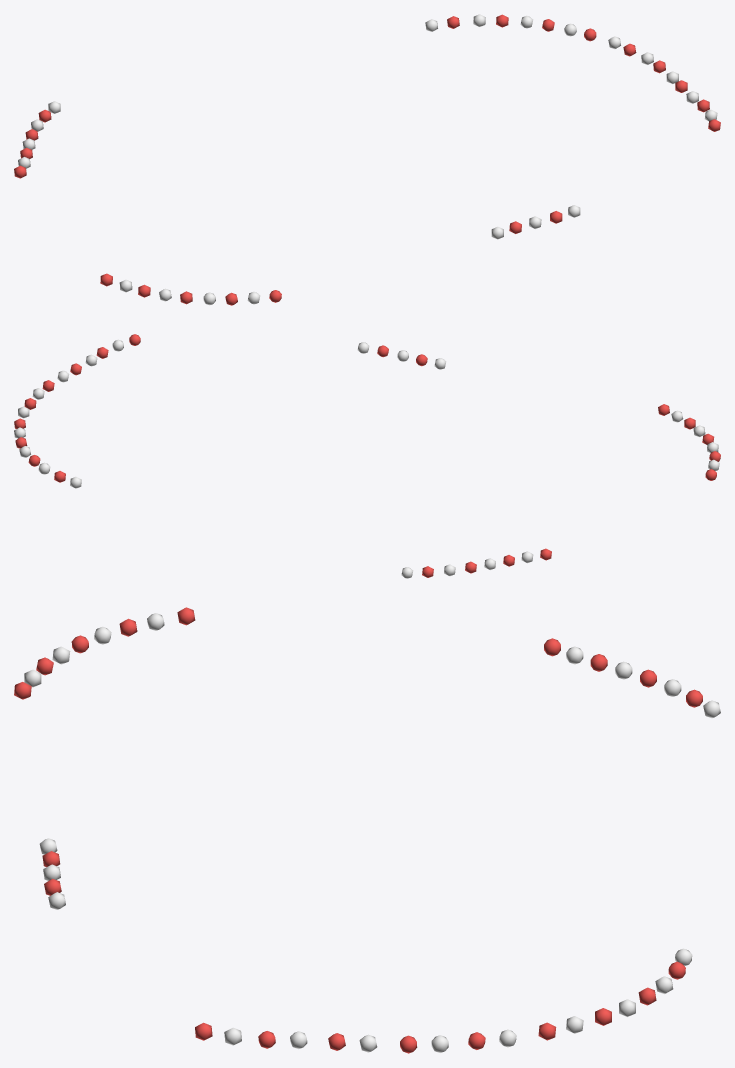
Rendered from buoys.fbx.
3 views of the same model, one above another, from view 1: azimuth 30°, elevation 25°; view 2: azimuth 150°, elevation 25°; view 3: azimuth 270°, elevation 25° (orthographic). The views are drawn at different scales.
Parts seen in each view (by area): view 1: Icosphere.031; view 2: Icosphere.031; view 3: Icosphere.031.
Boxes of the visible parts, x1,y1,x2,y2 form: Icosphere.031: (14, 14, 720, 305); Icosphere.031: (14, 334, 720, 578); Icosphere.031: (14, 607, 720, 1053).
Bounding box in the file's own units: 25079 × 487 × 17205.
